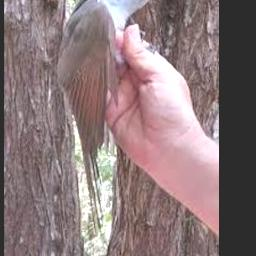Cuckoo: (57, 0, 175, 234)
